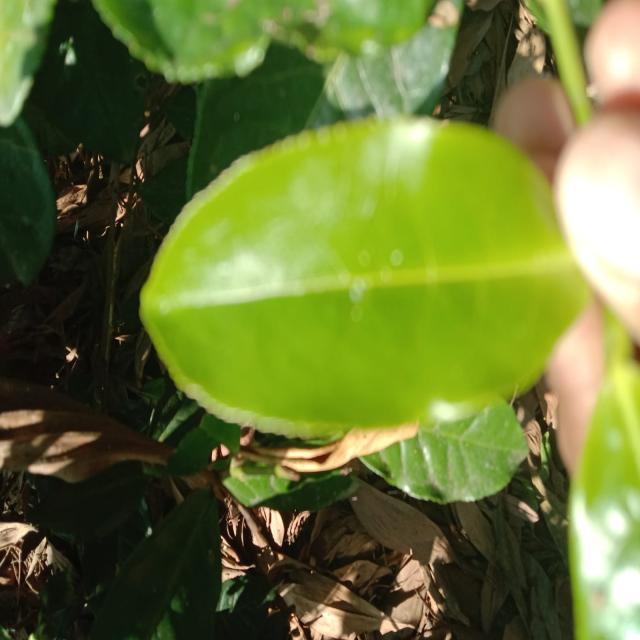Category B(2-4 days): (131, 111, 591, 466)
